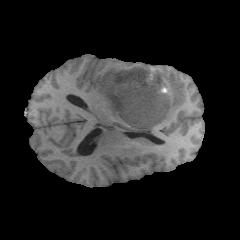glioma: (96, 66, 186, 134)
